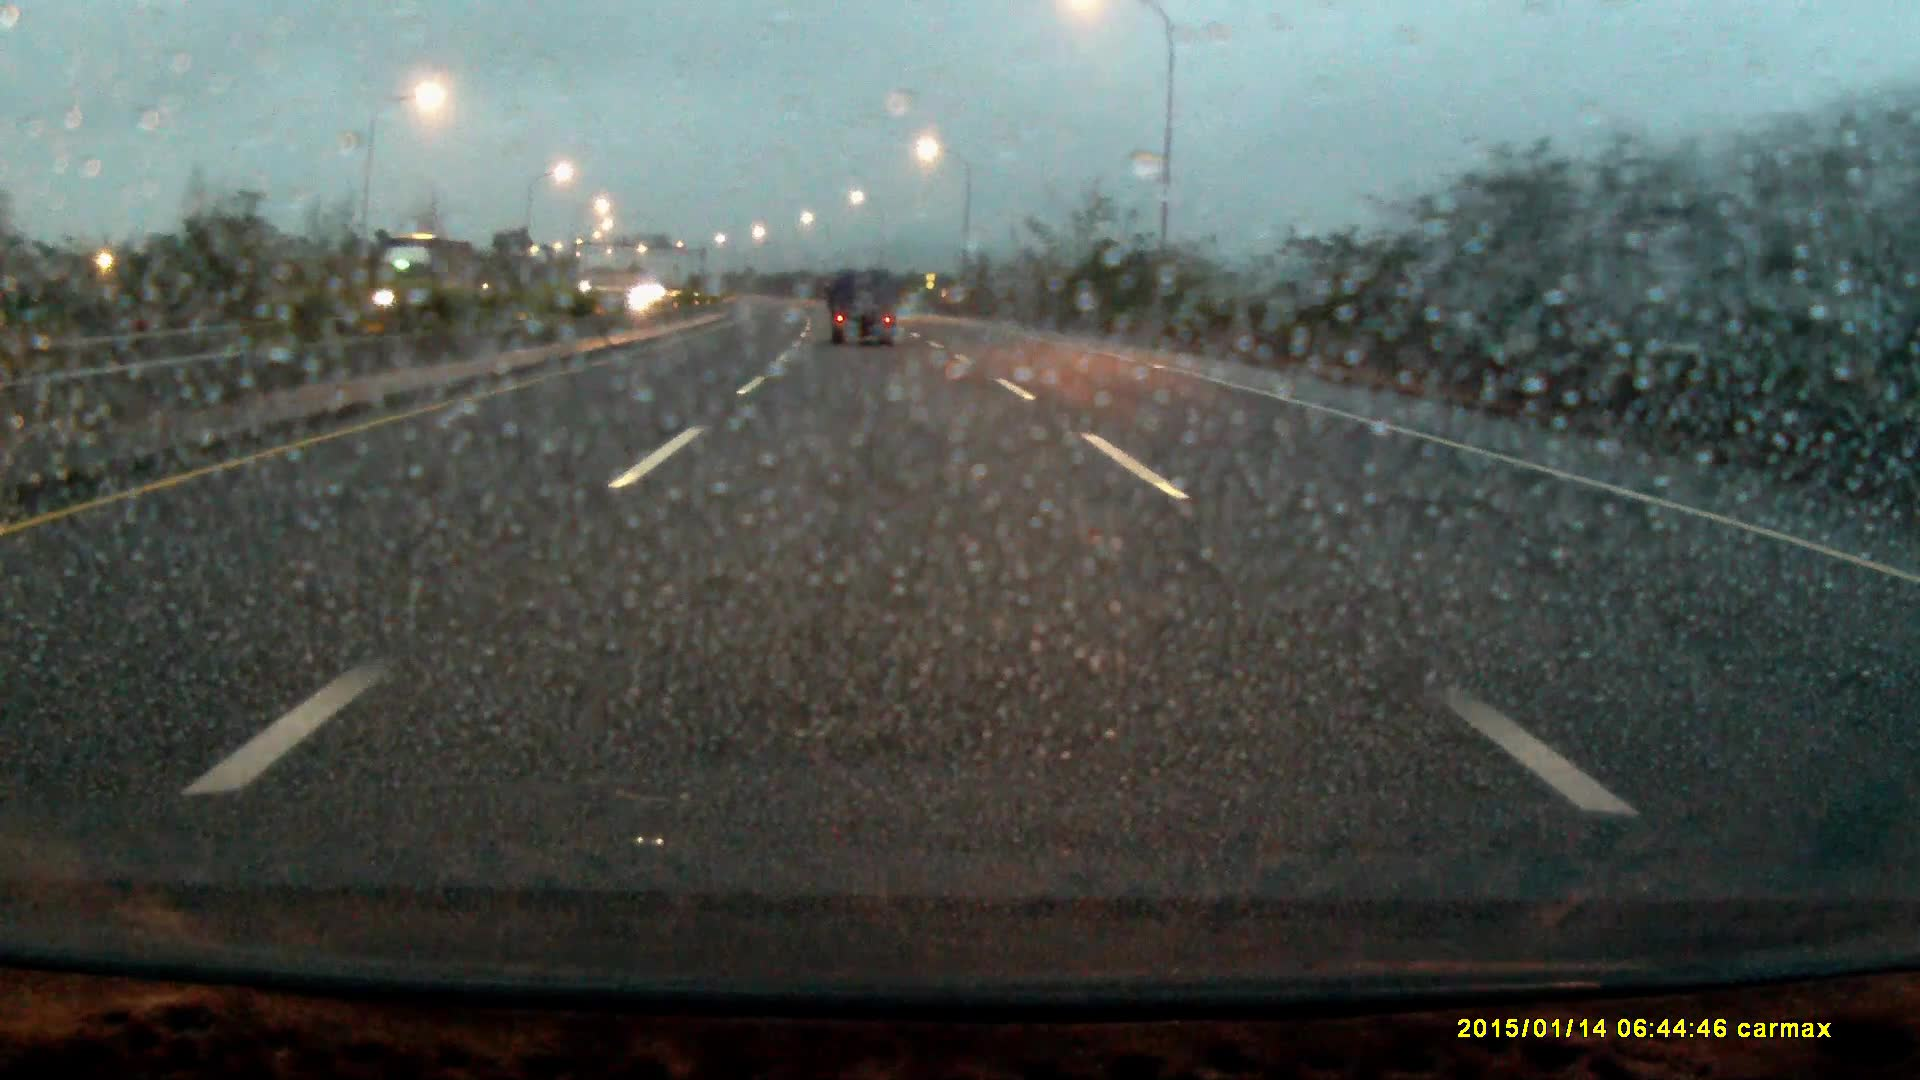vehicle: (363, 236, 495, 338), (829, 273, 901, 349)
